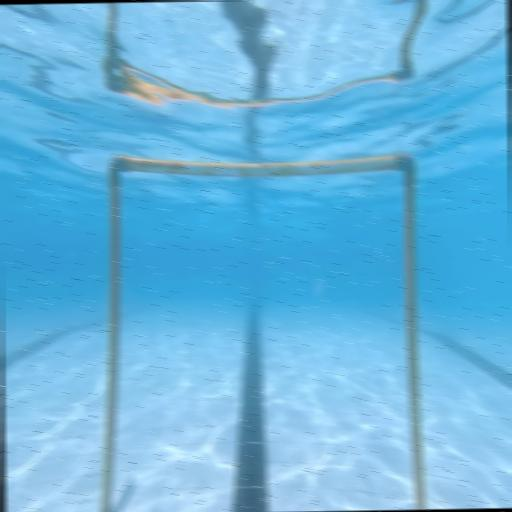gate: (92, 148, 426, 512)
